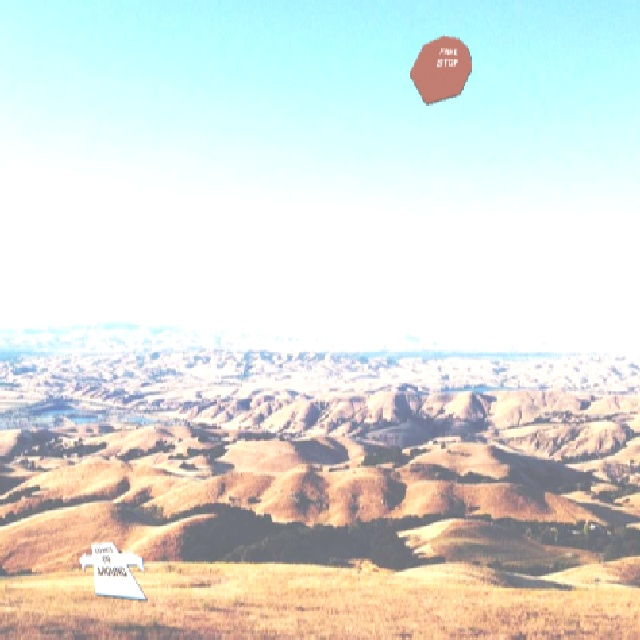DO_NOT_GO_AROUND: (78, 542, 148, 602)
FAKE_STOP: (408, 36, 472, 106)
